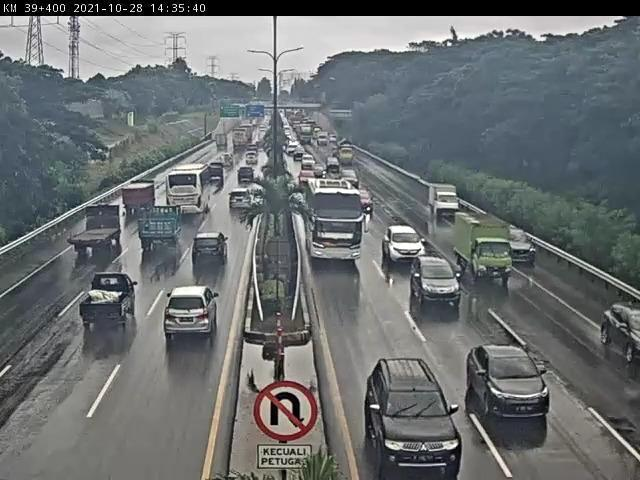bus: (309, 181, 363, 262), (167, 166, 212, 217)
car: (363, 358, 464, 474), (467, 344, 552, 418), (81, 273, 138, 329), (164, 285, 219, 341), (413, 257, 462, 303), (603, 304, 640, 363), (384, 226, 427, 260), (193, 233, 231, 270), (506, 229, 536, 263), (430, 185, 460, 215), (229, 190, 254, 213), (357, 193, 374, 210), (237, 167, 255, 183), (343, 172, 360, 187), (219, 156, 235, 171), (300, 171, 315, 184), (327, 157, 340, 170), (247, 153, 260, 165), (302, 158, 316, 169), (296, 149, 307, 159)
truck: (457, 214, 514, 278), (67, 204, 124, 254), (139, 207, 184, 256), (122, 182, 160, 217), (233, 129, 251, 151), (337, 143, 354, 164), (209, 164, 226, 184)
